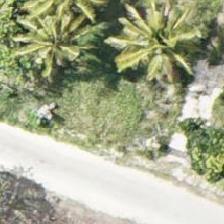coconut_tree: (7, 0, 97, 88), (113, 0, 203, 85)
